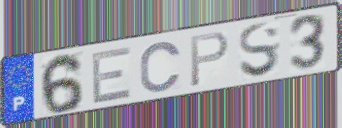3: (288, 13, 328, 74)
6: (38, 51, 86, 116)
C: (139, 40, 184, 95)
E: (89, 44, 133, 106)
P: (188, 30, 231, 90)
S: (237, 21, 282, 80)
